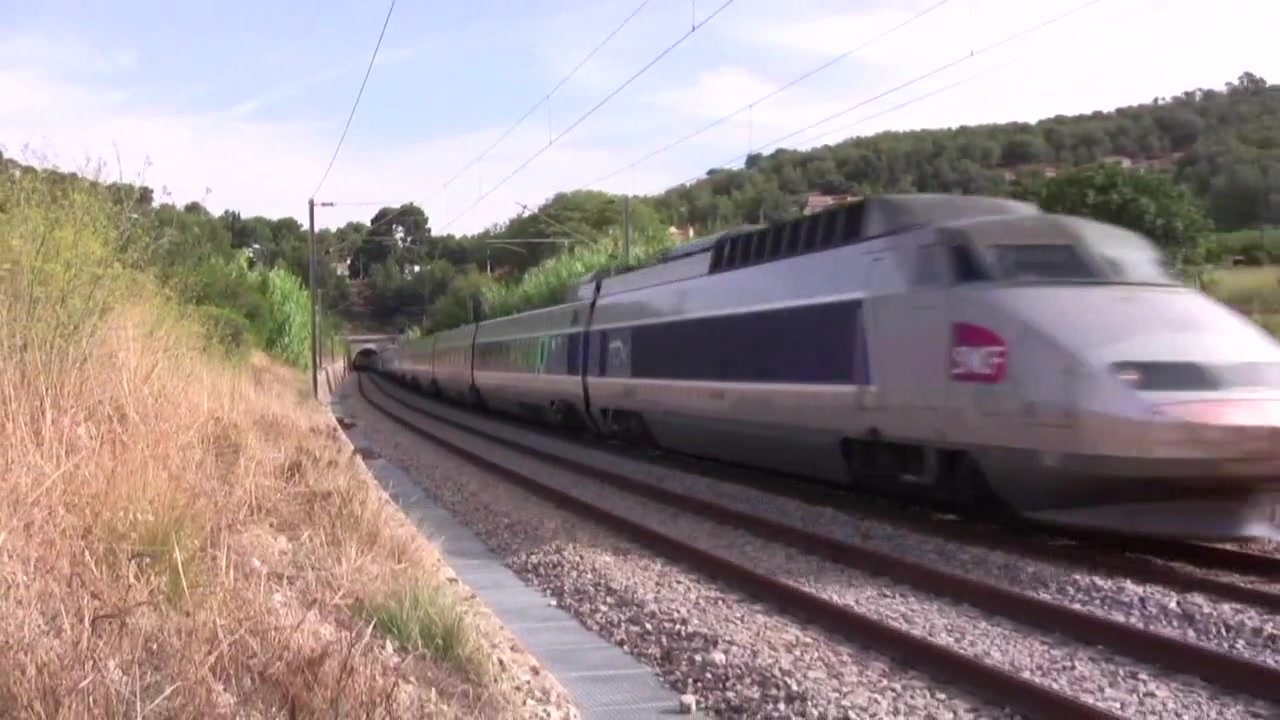train: (371, 194, 1280, 554)
